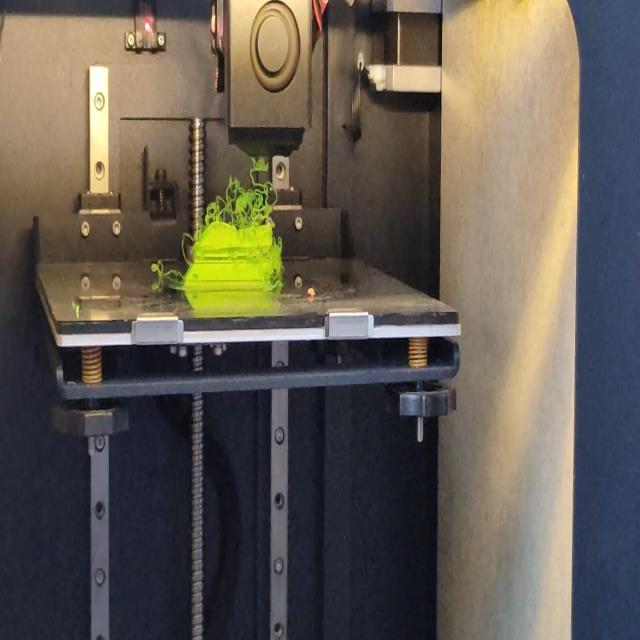spaghetti: (202, 158, 278, 225), (151, 262, 187, 286), (182, 229, 194, 264), (269, 279, 283, 292)
